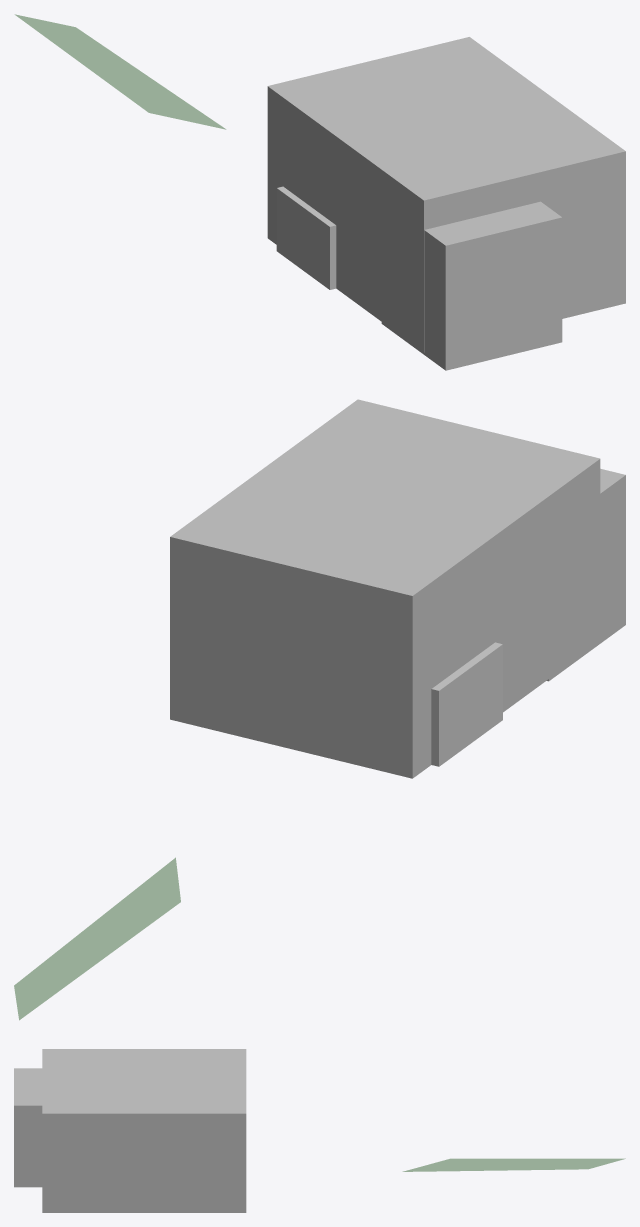
The model's file is 137_88_mid.glb.
The picture shows the model from 3 angles, top to bottom: view 1: azimuth 30°, elevation 25°; view 2: azimuth 150°, elevation 25°; view 3: azimuth 270°, elevation 25°; orthographic projection. The views are drawn at different scales.
Size of the model in its own units: 71.4 by 50.55 by 278.
